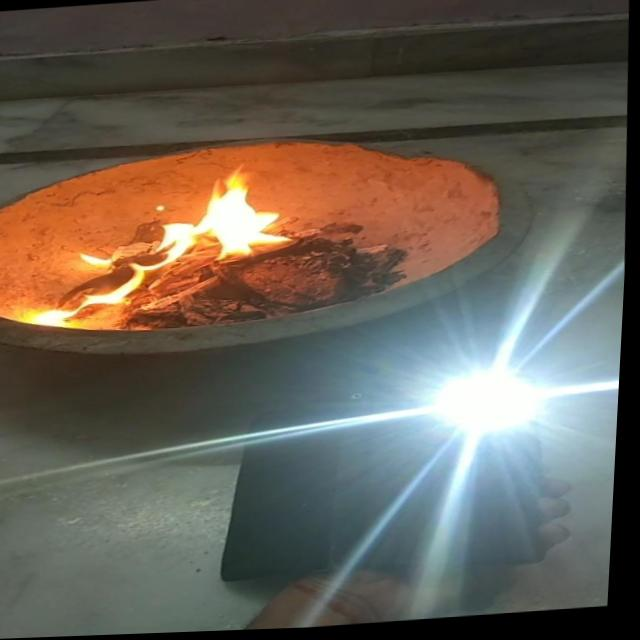fire: (117, 167, 295, 279), (17, 279, 143, 330)
